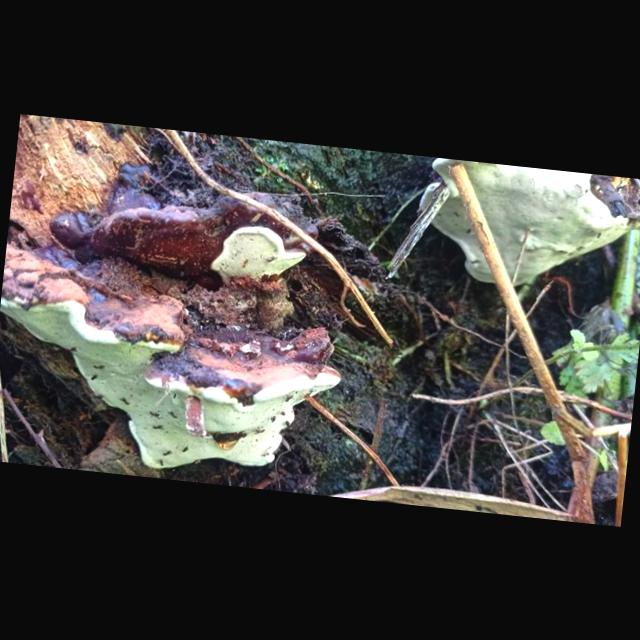ganoderma: (1, 246, 353, 489), (46, 154, 325, 295)
